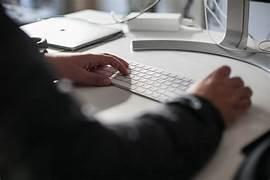keyboard: (108, 60, 196, 104)
